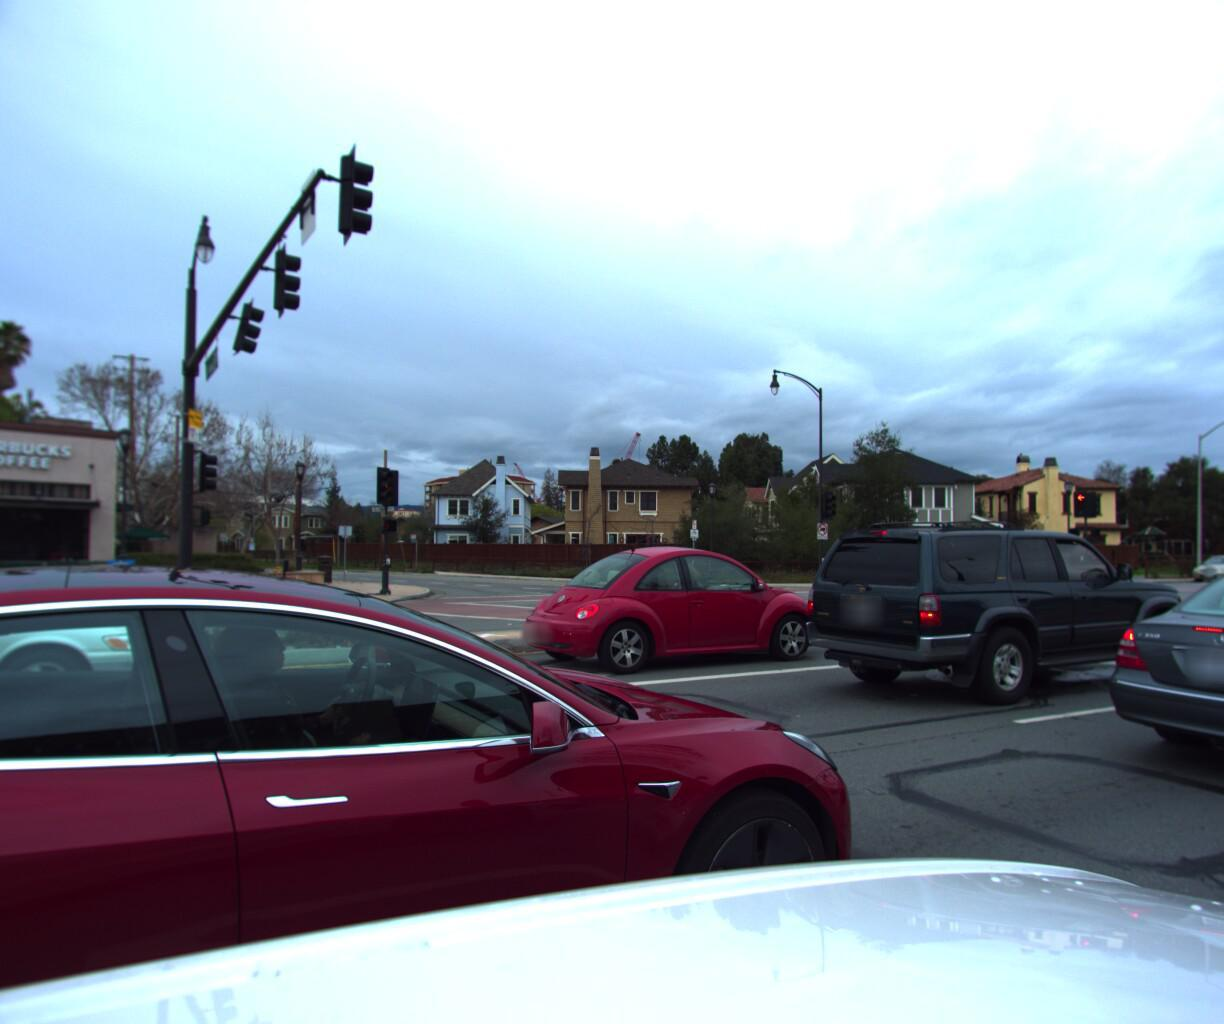car: (0, 484, 909, 1024), (777, 505, 1216, 721), (504, 533, 838, 685), (1074, 550, 1224, 822), (0, 547, 142, 788), (1179, 549, 1224, 579), (1218, 549, 1224, 578)
